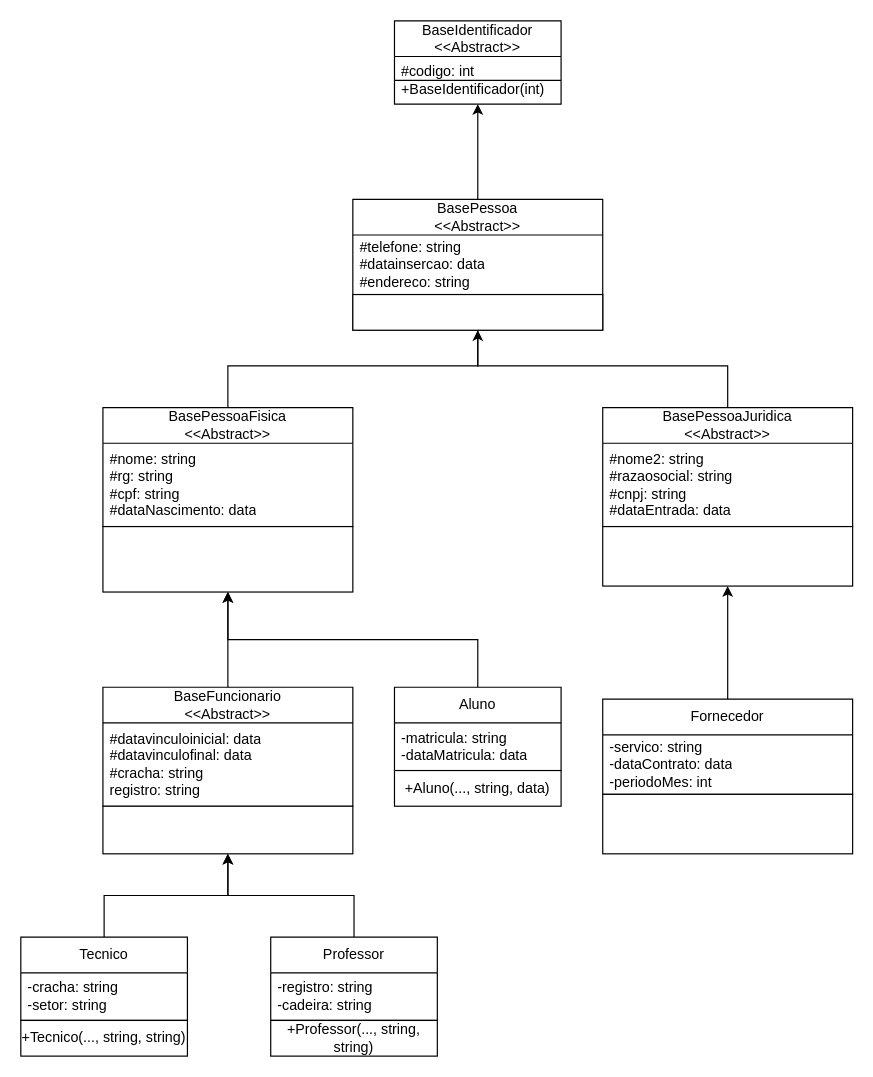
The diagram is 873 pixels wide and 1077 high, and some of its shapes have lost their labels. The centre of each missing label's shape, as x and y in pixels:
+BaseFuncionario(..., data, data, string, string): the point at 227,829
+BasePessoa(int, string, data, string): the point at 477,311
+BasePessoaFisica(..., string, string, string, data): the point at 227,558
+BasePessoaJuridica(..., string, string, string, string, data): the point at 727,555
+Fornecedor(..., string, data): the point at 727,823
